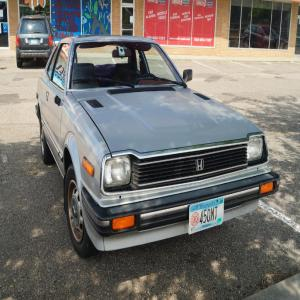Vehicle-registration-plate: (192, 204, 229, 232), (32, 39, 39, 44)
